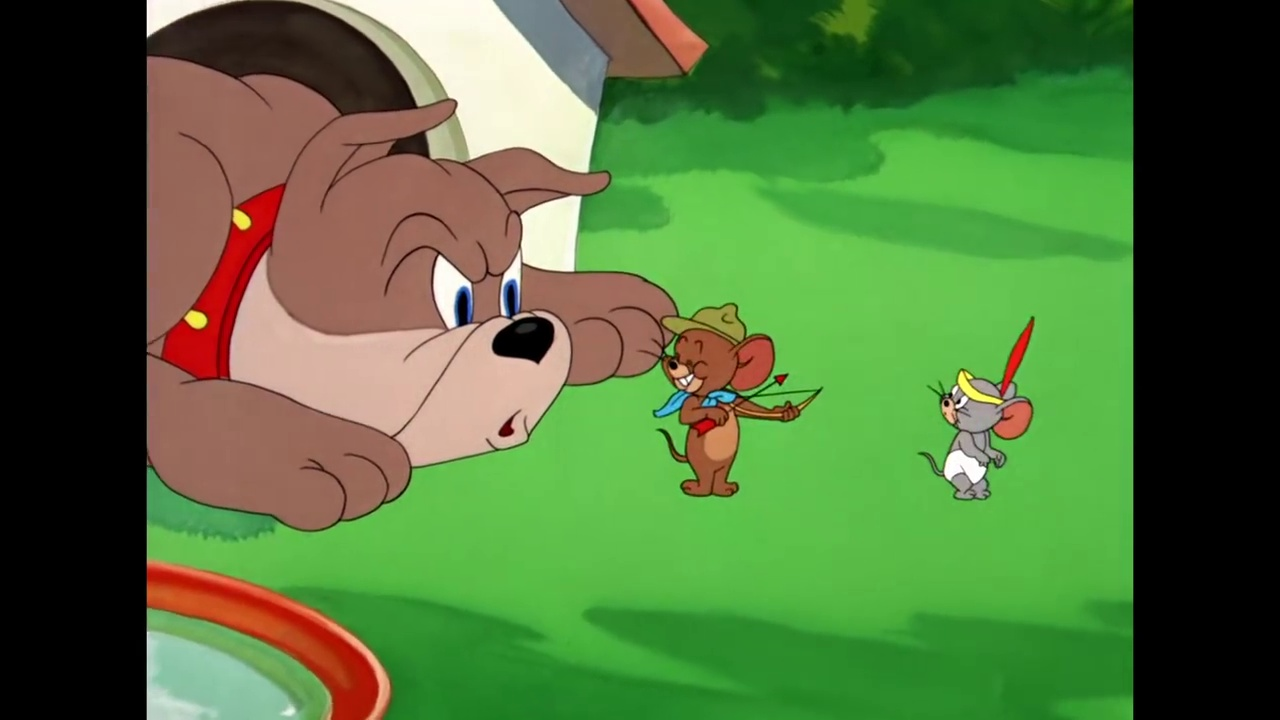spike: (218, 91, 612, 471)
